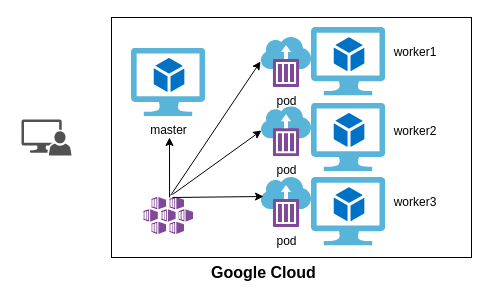
The diagram is 489 pixels wide and 305 high, and some of its shapes have lost their labels. Here are the shapes that lost their labels. From the top down, the centre of each, then its label:
At point 46,137: "MGMT VM".
At point 168,215: "Kubernetes Cluster".
